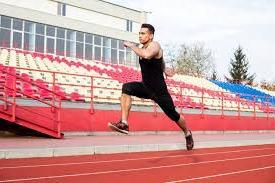Human: (104, 25, 203, 157)
